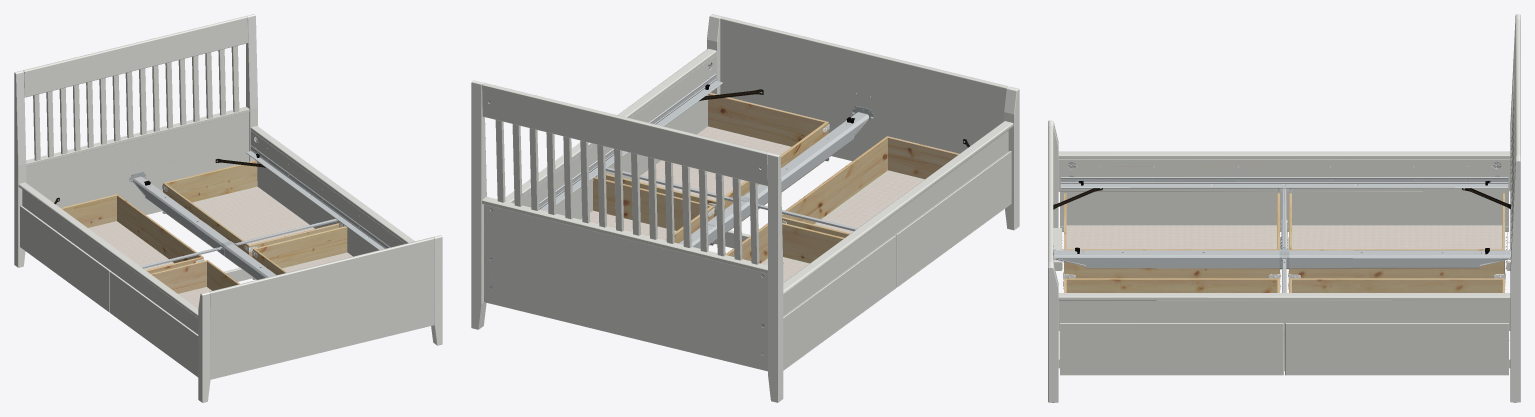
The model's file is IDAN_S_20458880.glb.
3 views of the same model, side by side, from view 1: azimuth 30°, elevation 25°; view 2: azimuth 150°, elevation 25°; view 3: azimuth 270°, elevation 25° (orthographic). The views are drawn at different scales.
Parts seen in each view (by area): view 1: model; view 2: model; view 3: model.
Boxes of the visible parts, box(x1,y1,x2,y2) form: model: box(14, 14, 442, 402); model: box(471, 14, 1019, 402); model: box(1048, 14, 1520, 402).
Size of the model in its own units: 1.45 by 1.12 by 1.98.
1 material, 1 textured.
